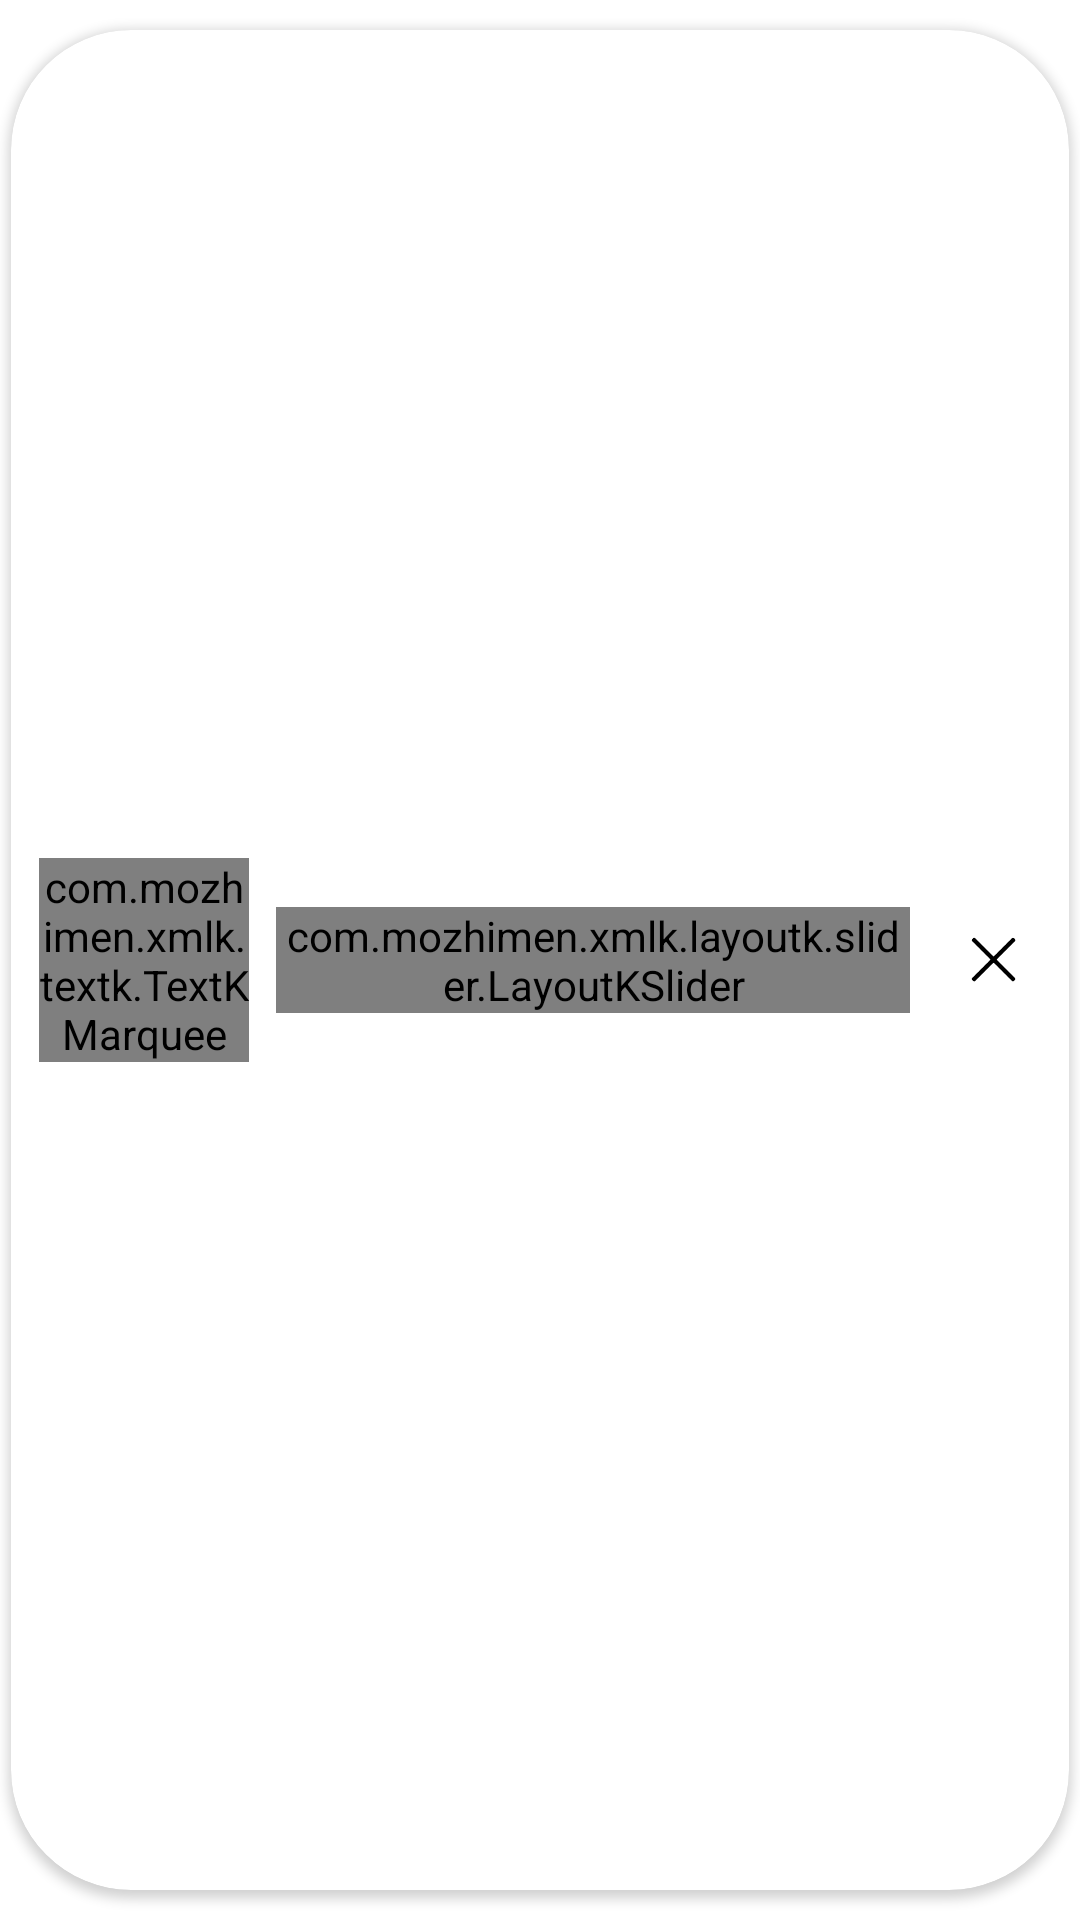

Point at icon controls on the screen. Image size 1080x1920, points as point (x, y).
close: point (993, 959)
